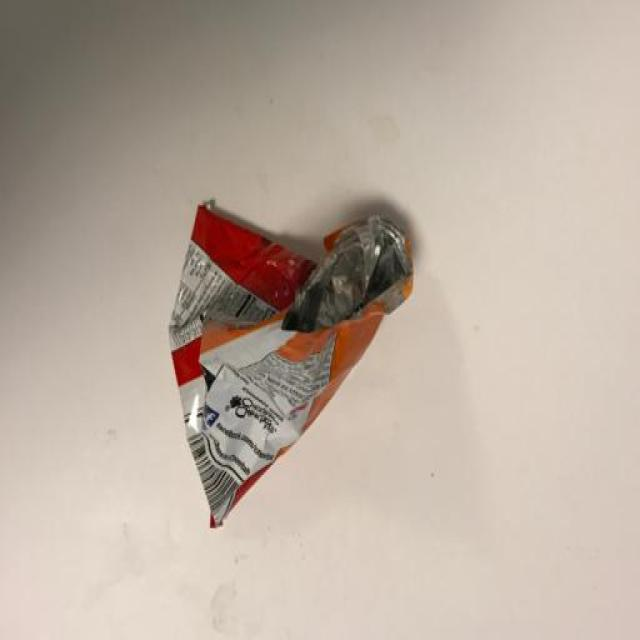Random Trash: (166, 198, 412, 528)
